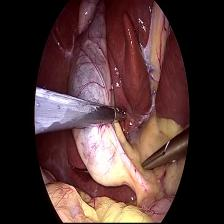Grasper: (140, 136, 174, 181), (110, 101, 128, 129)
